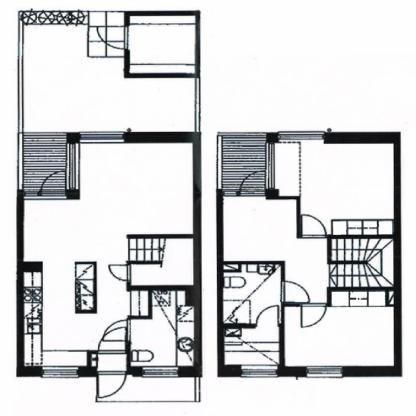door: (25, 142, 192, 367), (23, 10, 194, 132), (272, 140, 394, 234), (224, 196, 330, 301), (286, 307, 392, 364), (127, 13, 195, 75), (22, 132, 76, 198), (216, 132, 269, 195), (222, 262, 276, 320), (128, 237, 191, 285), (219, 327, 281, 366)
window: (95, 328, 129, 398), (300, 212, 331, 243), (279, 277, 311, 304), (38, 170, 69, 196), (301, 302, 330, 329), (94, 24, 126, 48), (241, 169, 269, 195), (103, 319, 133, 339), (256, 305, 279, 326), (106, 262, 130, 282)
zone: (277, 130, 323, 142), (264, 141, 274, 192), (80, 132, 124, 142), (306, 367, 342, 378), (242, 365, 278, 376), (144, 366, 177, 378), (44, 366, 76, 378)
